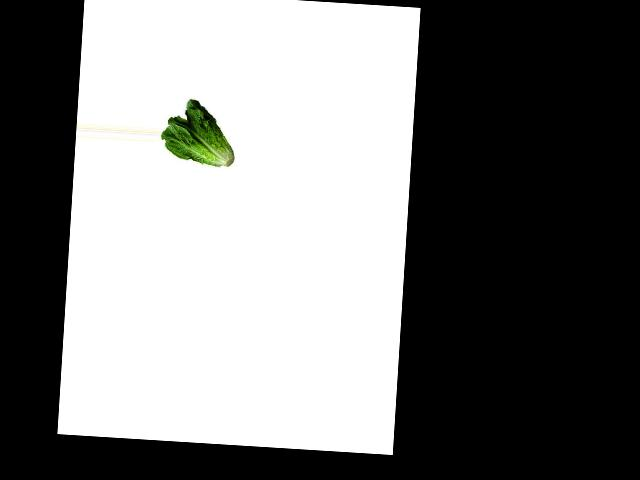lettuce: (158, 95, 237, 170)
